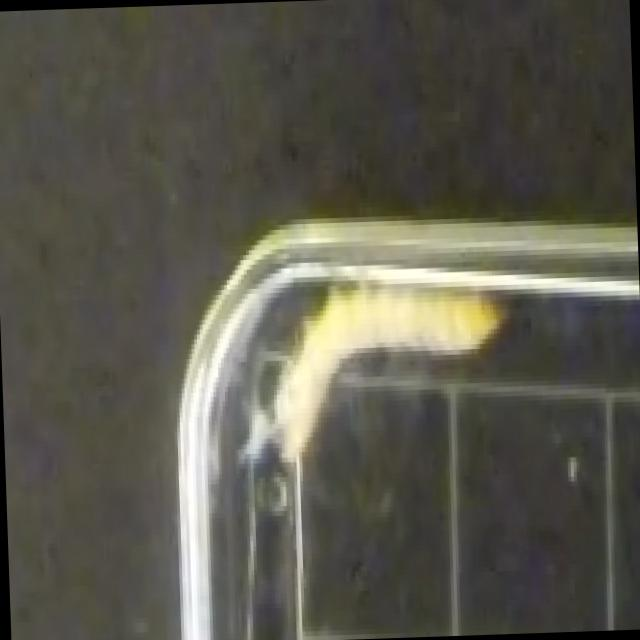larva: (274, 290, 516, 460)
